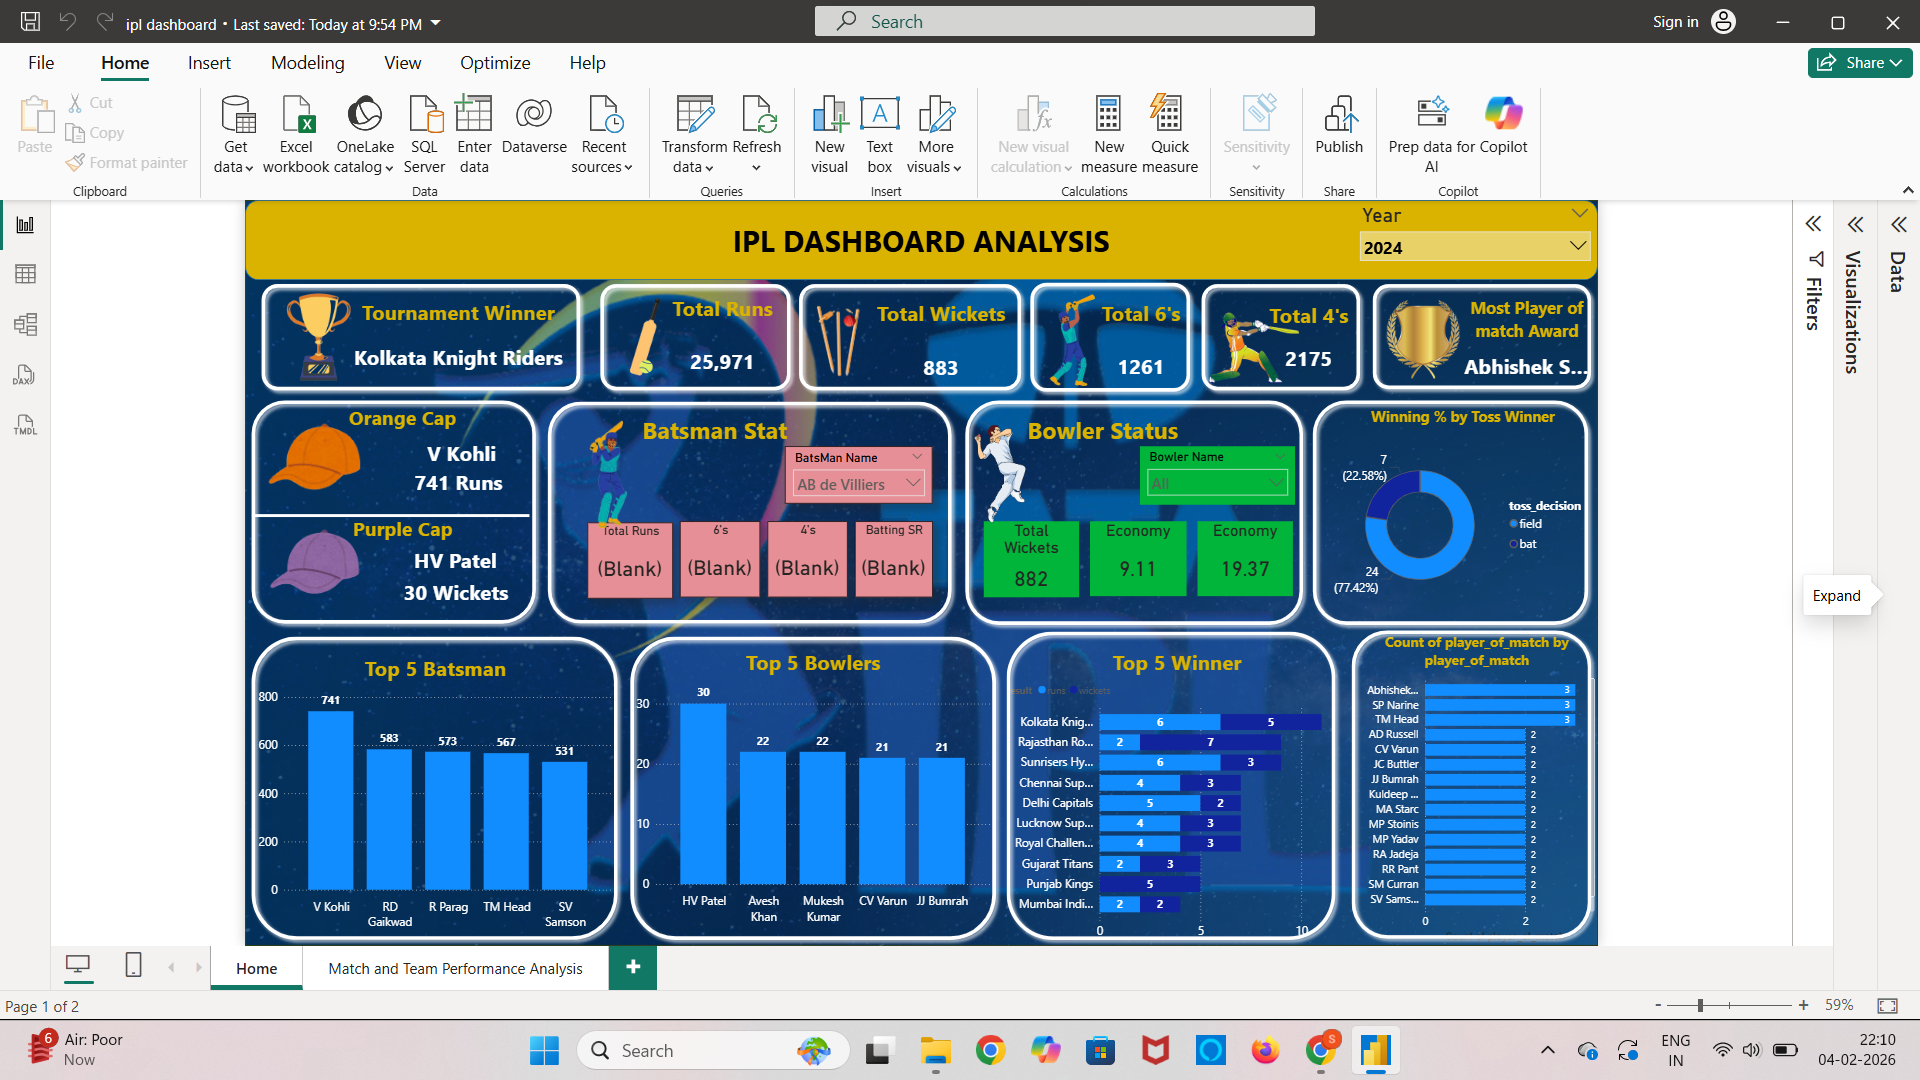

This screenshot's page, from the dashboard's own definition file:
{"tool":"powerbi","page":{"name":"Home","canvas":[1850,1020],"ordinal":0},"visuals":[{"type":"shape","box":[0,0,1849.5,109.5],"z":0},{"type":"shape","box":[13.9,106,453.7,163.4],"z":1000},{"type":"shape","box":[476.3,106,278.1,163.4],"z":2000},{"type":"slicer","fields":{"Values":["Date_Table.Year"]},"box":[1514,0,335.5,109.5],"z":3000},{"type":"card","title":"Tournament Winner","fields":{"Values":["matches.TournamentWinner"]},"box":[111.2,133.8,361.6,128.6],"z":4000},{"type":"card","title":"Total Runs","fields":{"Values":["deliveries.total_runs"]},"box":[508.5,127.6,291.1,149.5],"z":5000},{"type":"shape","box":[749.2,106,321.6,163.4],"z":6000},{"type":"card","title":"Total Wickets","fields":{"Values":["deliveries.is_wicket"]},"box":[804.8,135.6,293.8,151.2],"z":7000},{"type":"shape","box":[1065.5,104.3,236.4,166.9],"z":8000},{"type":"card","title":"Total 6''s","fields":{"Values":["deliveries.batsman_runs"]},"box":[1079.5,135.6,290.3,149.5],"z":9000},{"type":"shape","box":[1298.5,106,234.7,163.4],"z":10000},{"type":"card","title":"Total 4''s","fields":{"Values":["deliveries.batsman_runs"]},"box":[1335,139.1,239.9,119.9],"z":11000},{"type":"card","title":"Most Player of match Award","fields":{"Values":["matches.player_of_match"]},"box":[1656.6,132.1,192.9,132.1],"z":12000},{"type":"shape","box":[1533.1,106,316.4,161.7],"z":13000},{"type":"shape","box":[0,264.2,406.8,323.3],"z":14000},{"type":"shape","box":[13.9,281.6,375.5,299],"z":15000},{"type":"textbox","box":[133.8,272.9,165.1,46.9],"z":16000},{"type":"textbox","box":[133.8,425.9,165.1,46.9],"z":17000},{"type":"card","fields":{"Values":["deliveries.batter"]},"box":[198.2,295.5,196.4,102.6],"z":18000},{"type":"card","fields":{"Values":["deliveries.Orange Cap Holder Runs"]},"box":[194.7,332,194.7,111.2],"z":19000},{"type":"card","fields":{"Values":["deliveries.bowler"]},"box":[189.5,441.5,196.4,104.3],"z":20000},{"type":"card","fields":{"Values":["deliveries.Purple Cap Holder Wickets"]},"box":[191.2,481.5,194.7,111.2],"z":21000},{"type":"shape","box":[405,266,570.1,321.6],"z":22000},{"type":"shape","box":[975.2,264.2,479.8,325.1],"z":23000},{"type":"slicer","fields":{"Values":["deliveries.batter"]},"box":[738.8,337.2,201.6,78.2],"z":24000},{"type":"card","title":"Total Runs","fields":{"Values":["deliveries.batsman_runs"]},"box":[467.6,441.5,116.5,104.3],"z":25000},{"type":"card","title":"6''s","fields":{"Values":["deliveries.batsman_runs"]},"box":[594.5,439.8,109.5,104.3],"z":26000},{"type":"card","title":"4''s","fields":{"Values":["deliveries.batsman_runs"]},"box":[714.4,439.8,109.5,104.3],"z":27000},{"type":"card","title":"Batting SR","fields":{"Values":["deliveries.Batsman Strike Rate"]},"box":[834.4,439.8,106,104.3],"z":28000},{"type":"slicer","fields":{"Values":["deliveries.bowler"]},"box":[1223.7,337.2,212.1,80],"z":29000},{"type":"card","title":"Total Wickets","fields":{"Values":["deliveries.is_wicket"]},"box":[1009.9,439.8,130.4,104.3],"z":30000},{"type":"card","title":"Economy","fields":{"Values":["deliveries.Bowler Economy"]},"box":[1155.9,439.8,132.1,102.6],"z":31000},{"type":"card","title":"Economy","fields":{"Values":["deliveries.Bowler Strike Rate"]},"box":[1301.9,439.8,130.4,102.6],"z":32000},{"type":"textbox","box":[538.9,286.8,260.7,66.1],"z":33000},{"type":"textbox","box":[1065.5,286.8,260.7,66.1],"z":34000},{"type":"donutChart","title":"Winning % by Toss Winner","fields":{"Y":["matches.winner"],"Category":["matches.toss_decision"]},"box":[1479.3,281.6,370.2,299],"z":35000},{"type":"shape","box":[0,588.2,518.4,432.7],"z":36000},{"type":"columnChart","title":"Top 5 Batsman","fields":{"Category":["deliveries.batter"],"Y":["deliveries.batsman_runs"]},"box":[13.9,620.6,493.7,385.9],"z":37000},{"type":"shape","box":[518,587.5,518,432.8],"z":38000},{"type":"columnChart","title":"Top 5 Bowlers","fields":{"Category":["deliveries.bowler"],"Y":["deliveries.is_wicket"]},"box":[530.4,612.1,494.5,386.8],"z":39000},{"type":"barChart","title":"Top 5 Winner","fields":{"Category":["matches.winner"],"Y":["matches.winner"],"Series":["matches.result"]},"box":[1036,611.9,478,408.5],"z":40000},{"type":"shape","box":[1032.5,580.6,467.6,439.8],"z":41000},{"type":"clusteredBarChart","fields":{"Category":["matches.player_of_match"],"Y":["matches.player_of_match"]},"box":[1517.4,592.2,333,428.7],"z":42000},{"type":"image","box":[458.9,121.7,179,132.1],"z":43000},{"type":"image","box":[731.8,139.1,159.9,114.7],"z":44000},{"type":"image","box":[12.2,121.7,179,132.1],"z":45000},{"type":"image","box":[33,295.5,128.6,113],"z":46000},{"type":"image","box":[33,439.8,128.6,113],"z":47000},{"type":"image","box":[350.1,296.5,280.7,159.3],"z":48000},{"type":"image","box":[909.1,307.7,246.8,133.8],"z":49000},{"type":"image","box":[1009.9,125.2,246.8,133.8],"z":50000},{"type":"image","box":[1256.8,139.1,246.8,133.8],"z":51000},{"type":"image","box":[1489.7,126.9,246.8,133.8],"z":52000},{"type":"shape","box":[1451.4,264.2,394.6,325.1],"z":53000},{"type":"shape","box":[1503.6,578.8,345.9,439.8],"z":54000}]}

Visuals, with their boxes on the page's 1850x1020 design canvas (x1, y1, x2, y2). These are canvas units, not pixel positions in the 1920x1080 screenshot, which may show the page scaled, cropped or inside an application window:
shape: bbox=[0, 0, 1850, 110]
shape: bbox=[14, 106, 468, 269]
shape: bbox=[476, 106, 754, 269]
slicer - Date_Table.Year: bbox=[1514, 0, 1850, 110]
"Tournament Winner" card: bbox=[111, 134, 473, 262]
"Total Runs" card: bbox=[508, 128, 800, 277]
shape: bbox=[749, 106, 1071, 269]
"Total Wickets" card: bbox=[805, 136, 1099, 287]
shape: bbox=[1066, 104, 1302, 271]
"Total 6''s" card: bbox=[1080, 136, 1370, 285]
shape: bbox=[1298, 106, 1533, 269]
"Total 4''s" card: bbox=[1335, 139, 1575, 259]
"Most Player of match Award" card: bbox=[1657, 132, 1850, 264]
shape: bbox=[1533, 106, 1850, 268]
shape: bbox=[0, 264, 407, 588]
shape: bbox=[14, 282, 389, 581]
textbox: bbox=[134, 273, 299, 320]
textbox: bbox=[134, 426, 299, 473]
card - deliveries.batter: bbox=[198, 296, 395, 398]
card - deliveries.Orange Cap Holder Runs: bbox=[195, 332, 389, 443]
card - deliveries.bowler: bbox=[190, 442, 386, 546]
card - deliveries.Purple Cap Holder Wickets: bbox=[191, 482, 386, 593]
shape: bbox=[405, 266, 975, 588]
shape: bbox=[975, 264, 1455, 589]
slicer - deliveries.batter: bbox=[739, 337, 940, 415]
"Total Runs" card: bbox=[468, 442, 584, 546]
"6''s" card: bbox=[594, 440, 704, 544]
"4''s" card: bbox=[714, 440, 824, 544]
"Batting SR" card: bbox=[834, 440, 940, 544]
slicer - deliveries.bowler: bbox=[1224, 337, 1436, 417]
"Total Wickets" card: bbox=[1010, 440, 1140, 544]
"Economy" card: bbox=[1156, 440, 1288, 542]
"Economy" card: bbox=[1302, 440, 1432, 542]
textbox: bbox=[539, 287, 800, 353]
textbox: bbox=[1066, 287, 1326, 353]
"Winning % by Toss Winner" donutChart: bbox=[1479, 282, 1850, 581]
shape: bbox=[0, 588, 518, 1021]
"Top 5 Batsman" columnChart: bbox=[14, 621, 508, 1006]
shape: bbox=[518, 588, 1036, 1020]
"Top 5 Bowlers" columnChart: bbox=[530, 612, 1025, 999]
"Top 5 Winner" barChart: bbox=[1036, 612, 1514, 1020]
shape: bbox=[1032, 581, 1500, 1020]
clusteredBarChart - matches.player_of_match x matches.player_of_match: bbox=[1517, 592, 1850, 1021]
image: bbox=[459, 122, 638, 254]
image: bbox=[732, 139, 892, 254]
image: bbox=[12, 122, 191, 254]
image: bbox=[33, 296, 162, 408]
image: bbox=[33, 440, 162, 553]
image: bbox=[350, 296, 631, 456]
image: bbox=[909, 308, 1156, 442]
image: bbox=[1010, 125, 1257, 259]
image: bbox=[1257, 139, 1504, 273]
image: bbox=[1490, 127, 1736, 261]
shape: bbox=[1451, 264, 1846, 589]
shape: bbox=[1504, 579, 1850, 1019]
